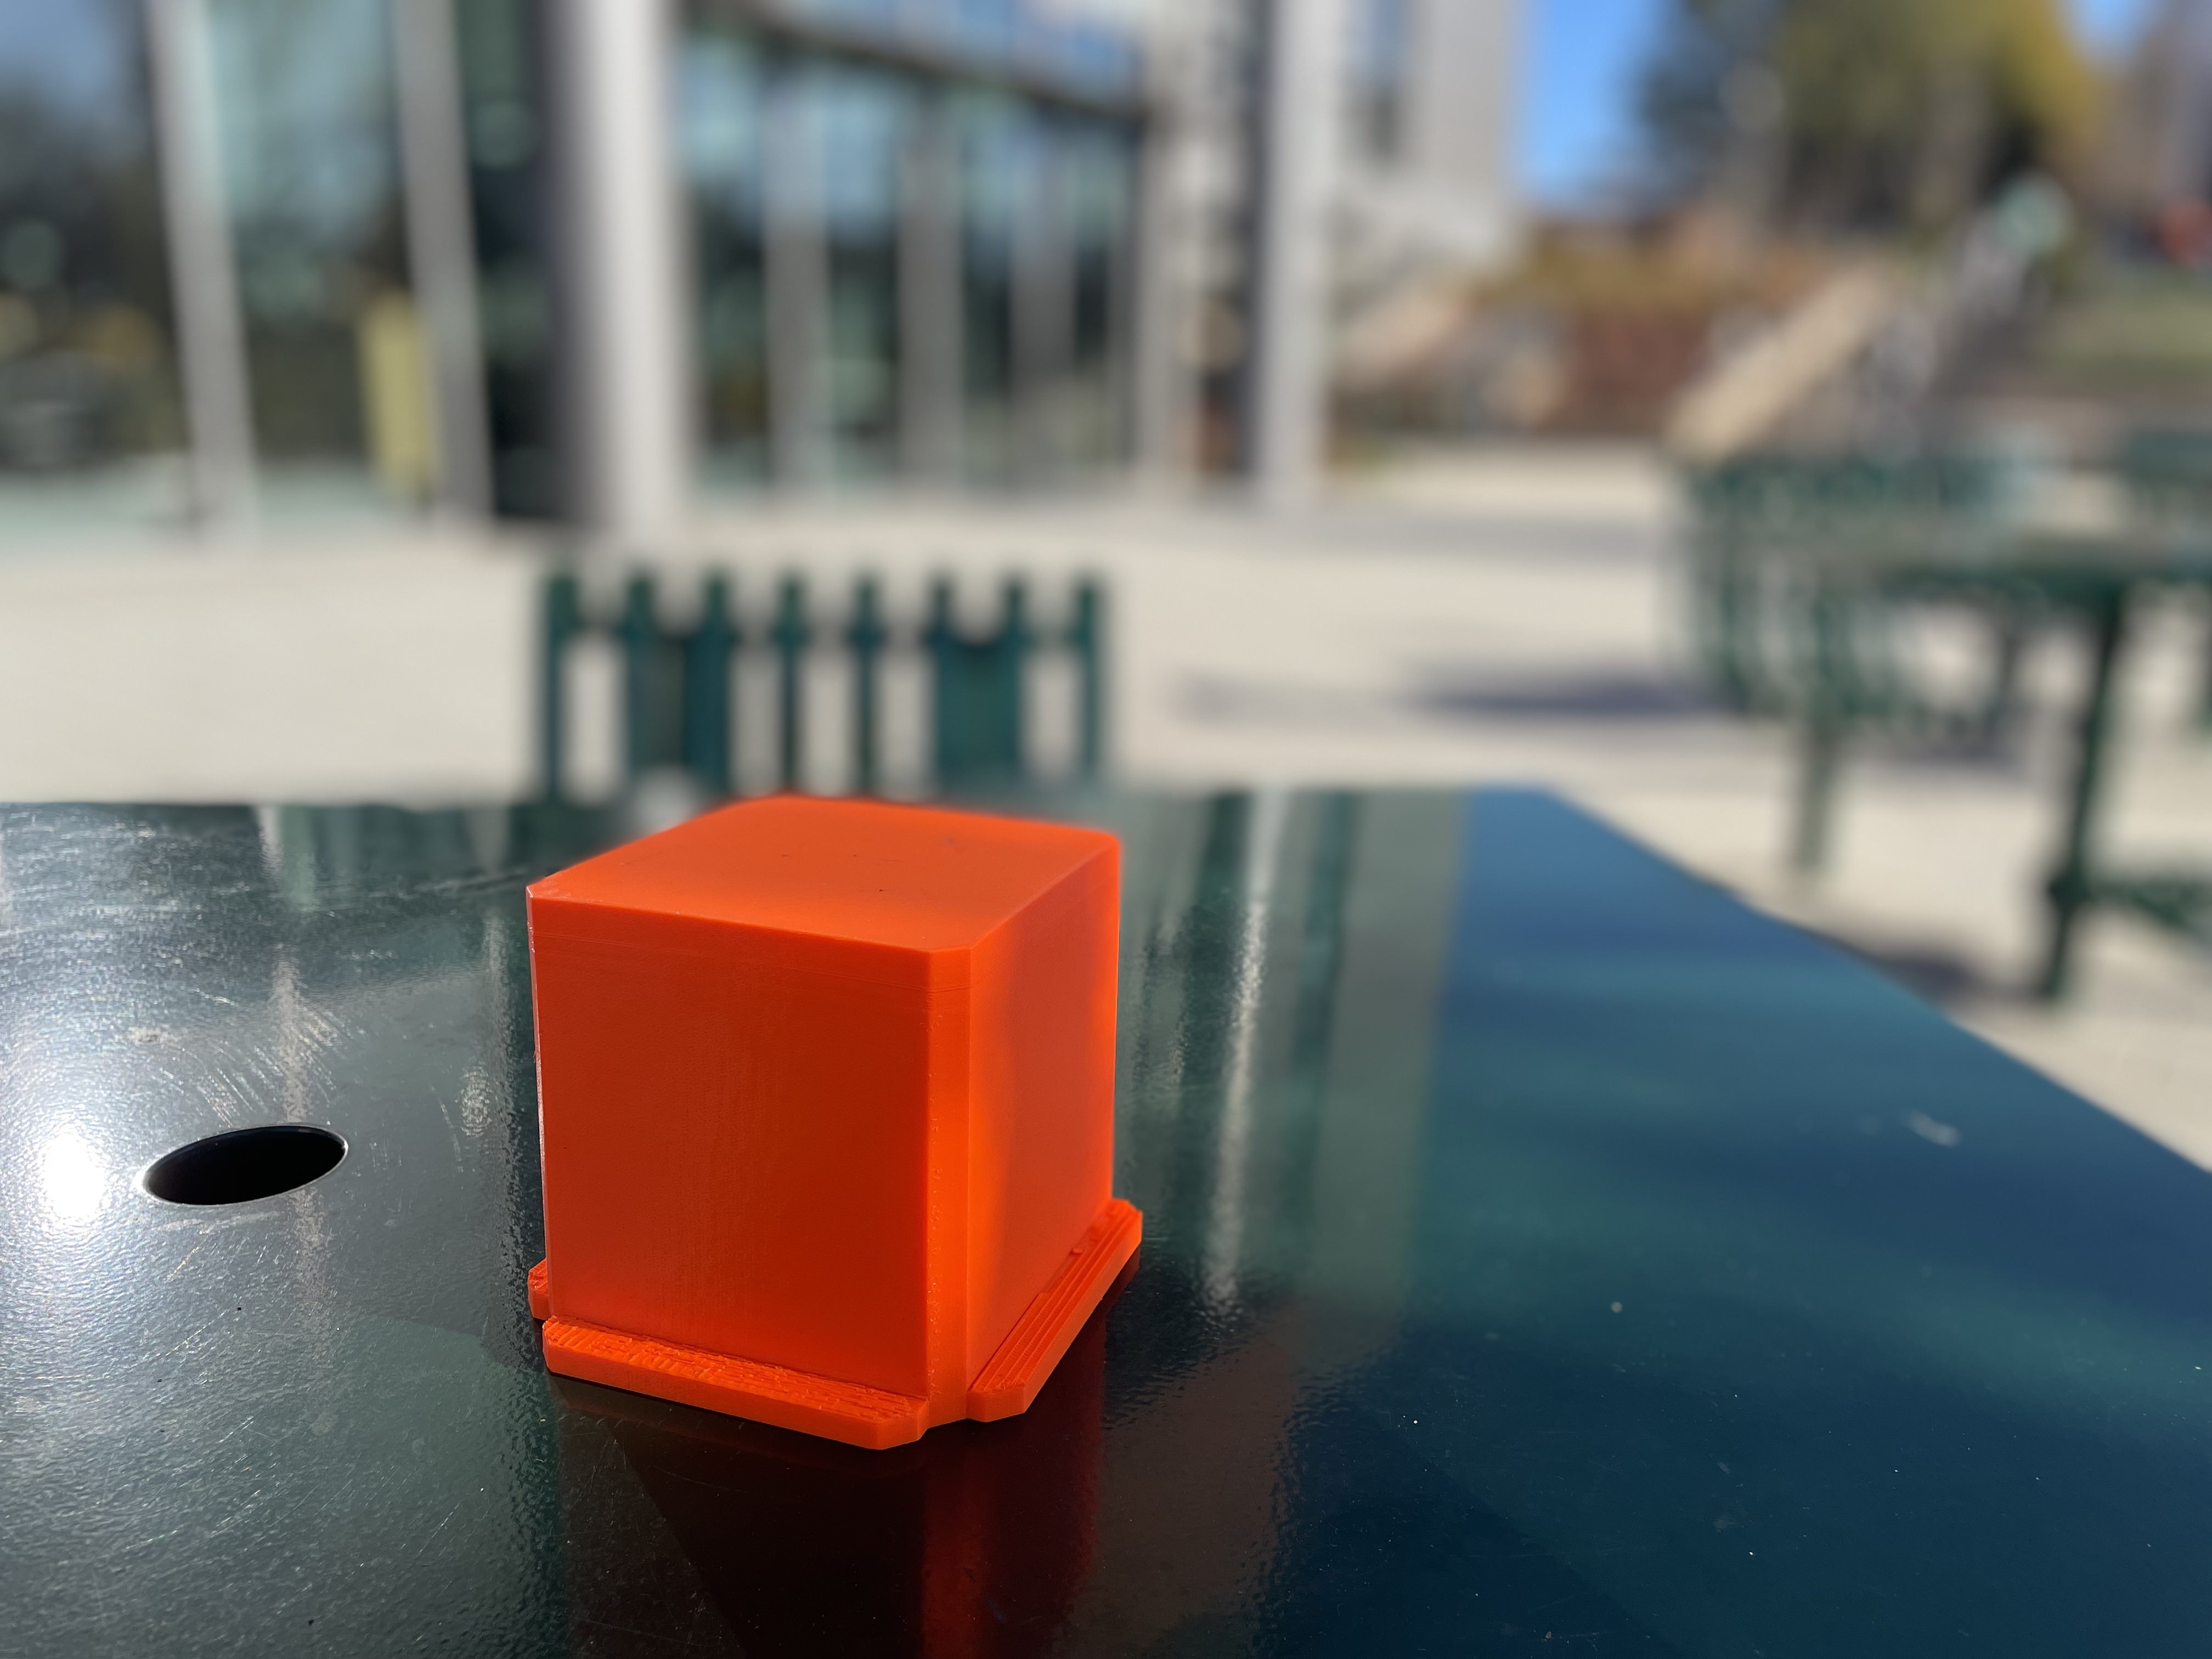payload1: (462, 775, 1170, 1466)
